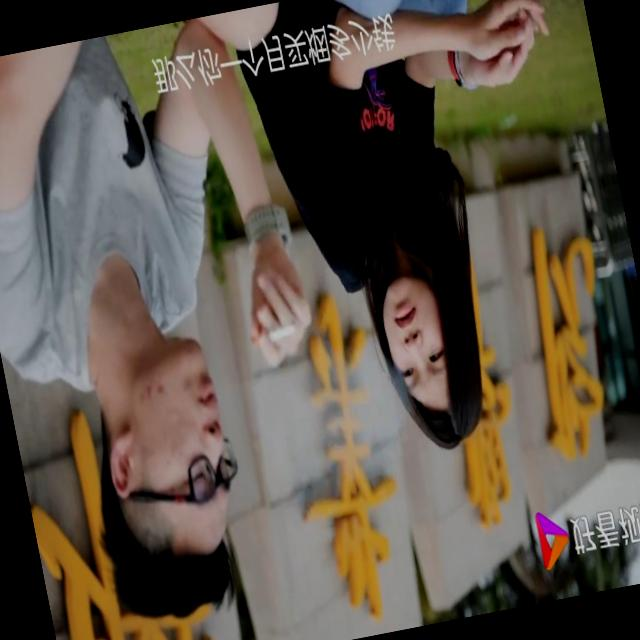smoke: (238, 306, 308, 358)
